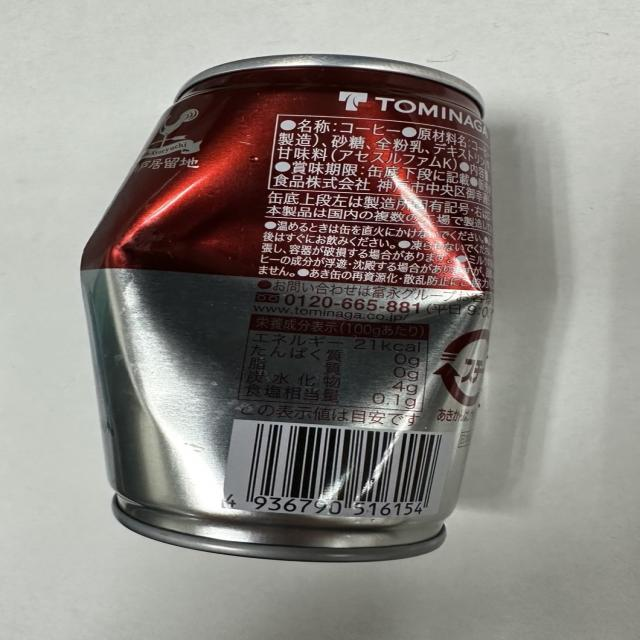Can: (71, 52, 494, 559)
